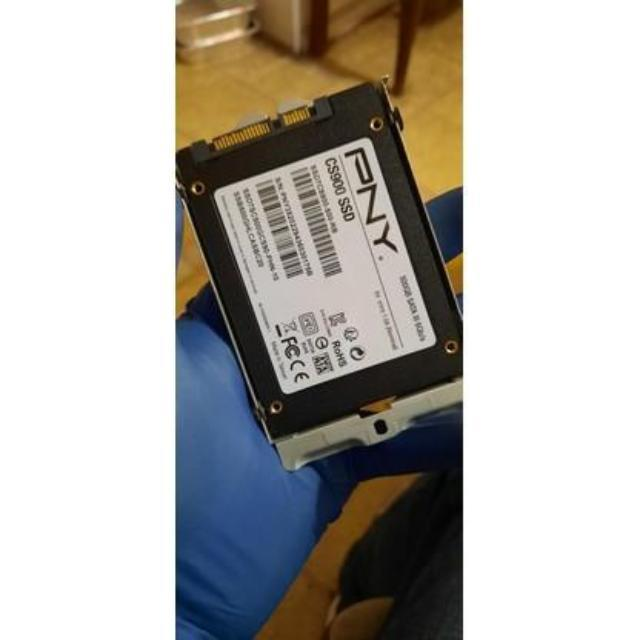DISK: (178, 76, 462, 450)
